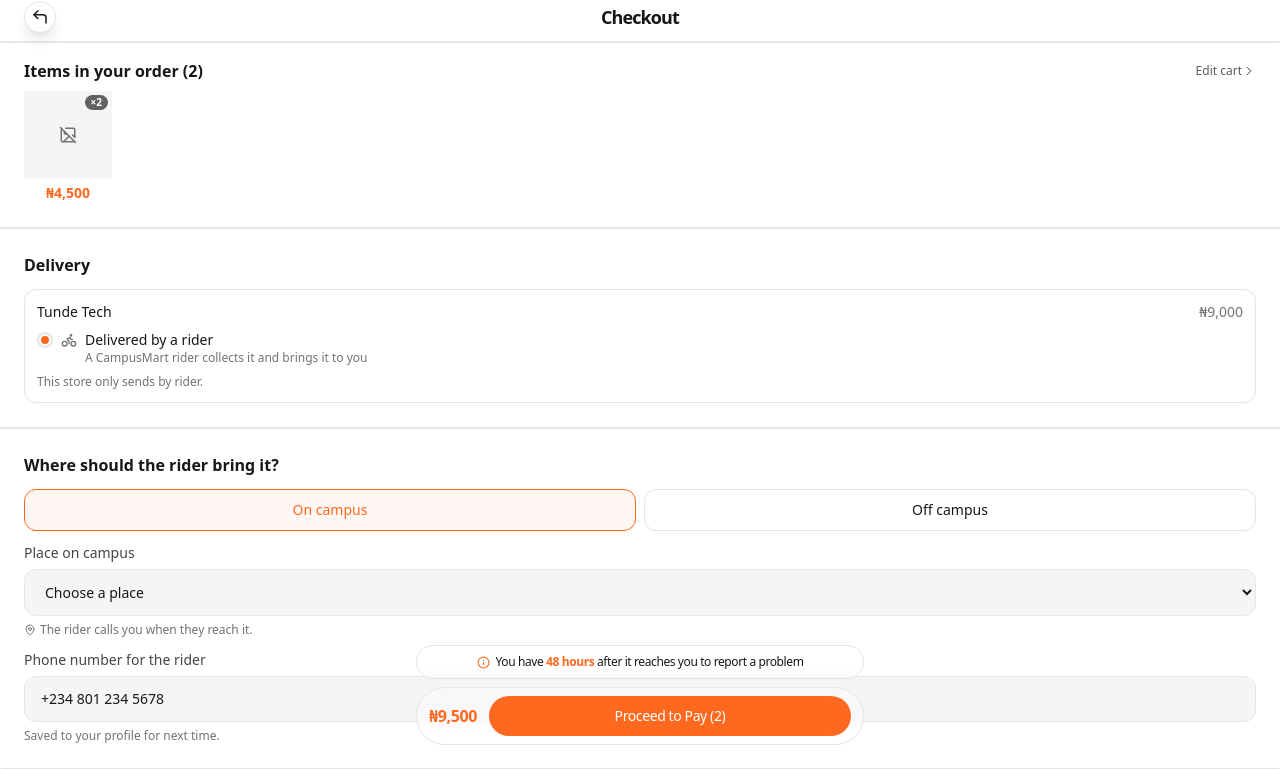
CheckoutPage › on OUT_OF_STOCK, refetches the cart and says which item
Step 1. Click the radio button labelled "Off campus" → (950, 510), box [644,489,1256,531]
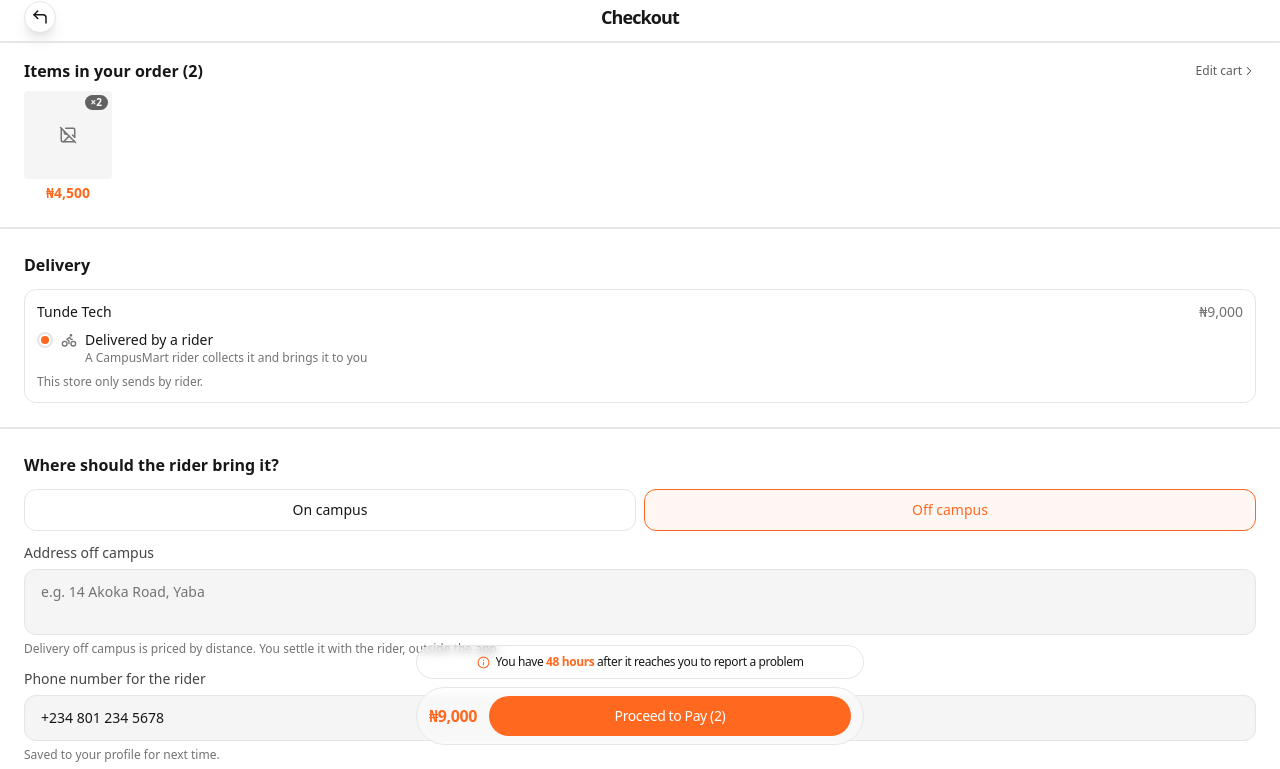
Step 2. Type "14 Akoka Road, Yaba" into the text box labelled "Address off campus" → (640, 602), box [24,569,1256,635]
(page scrolled)
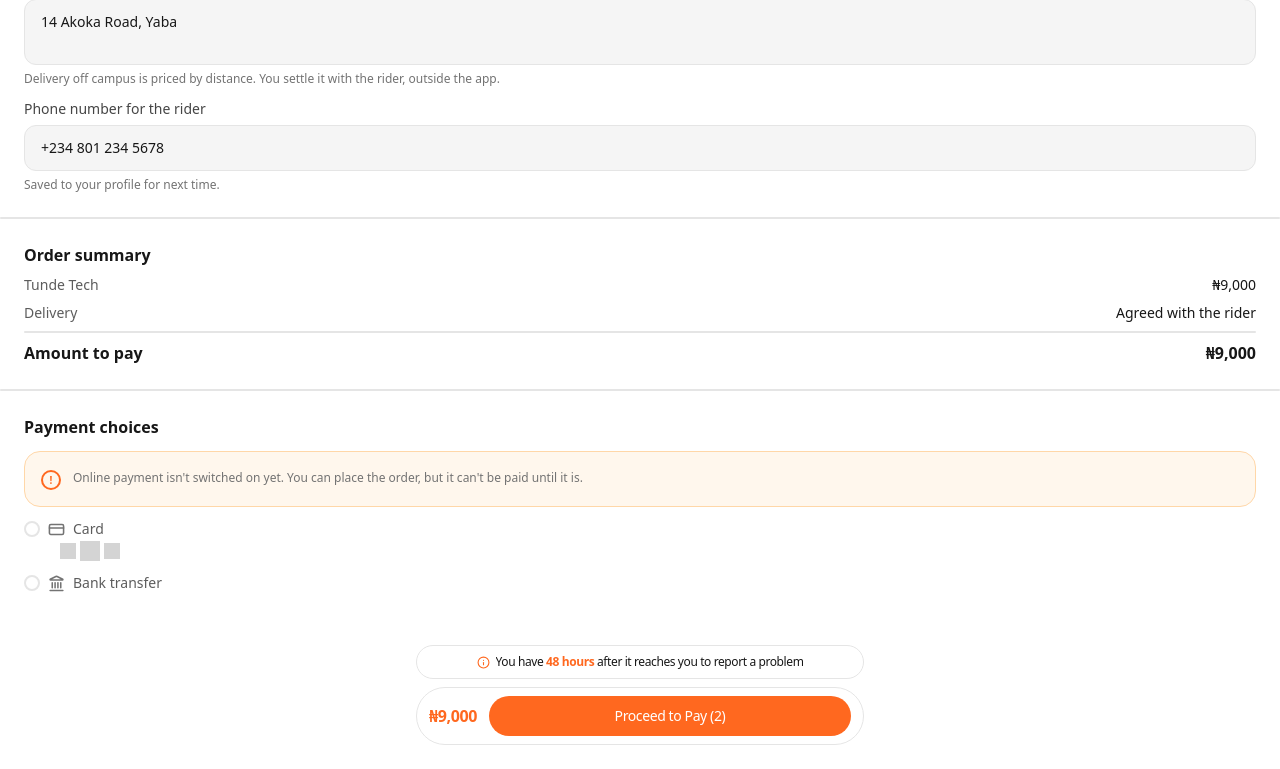
Step 3. Click the radio button labelled "Card" → (88, 528), box [24,519,1256,561]
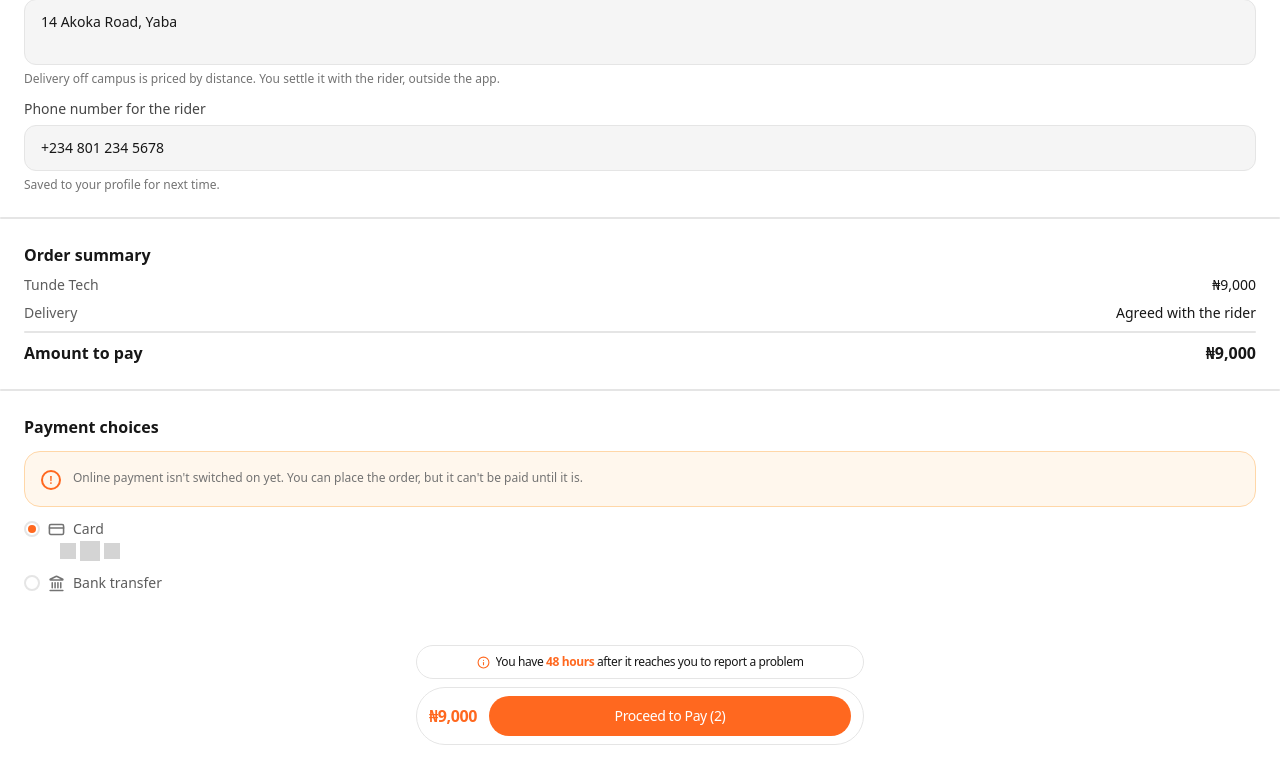
Step 4. Click the button "Proceed to Pay (2)" → (670, 716), box [489,696,851,736]
(page scrolled)
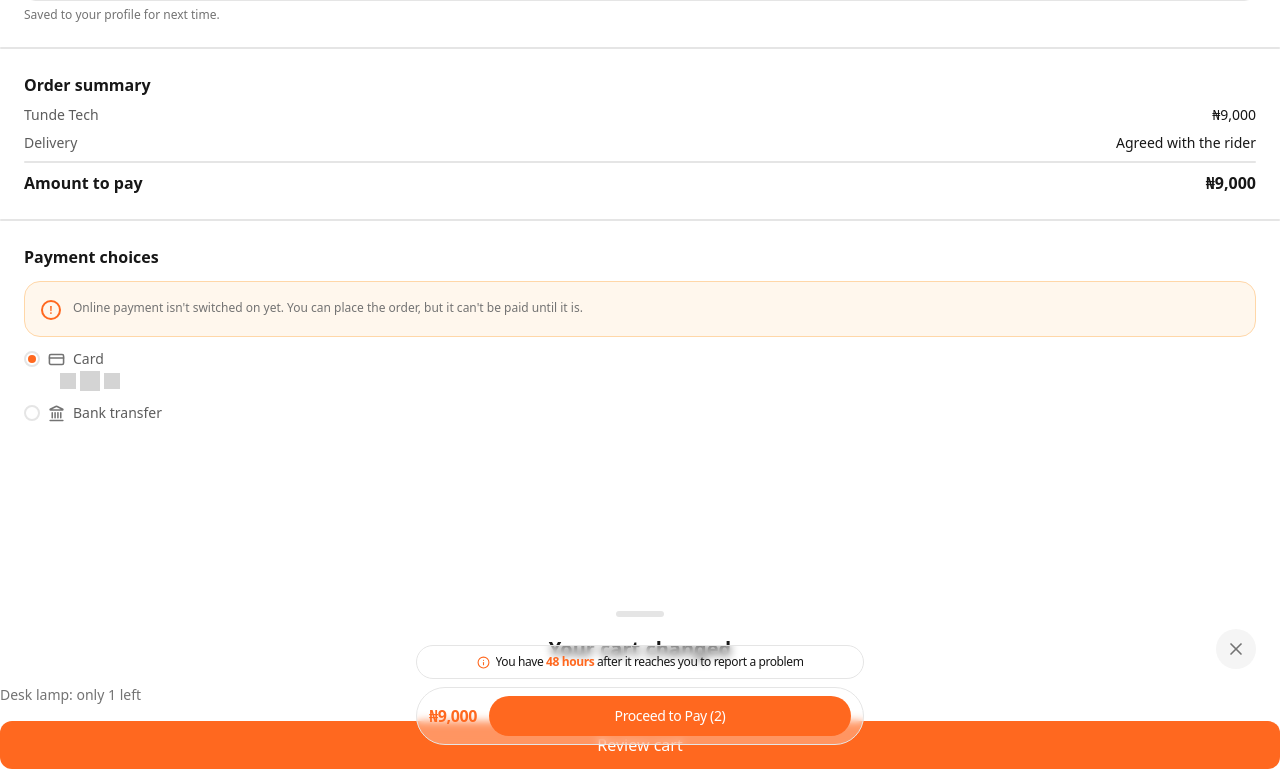
Now the text "Desk lamp: only 1 left" is shown, box [0,685,141,704]
